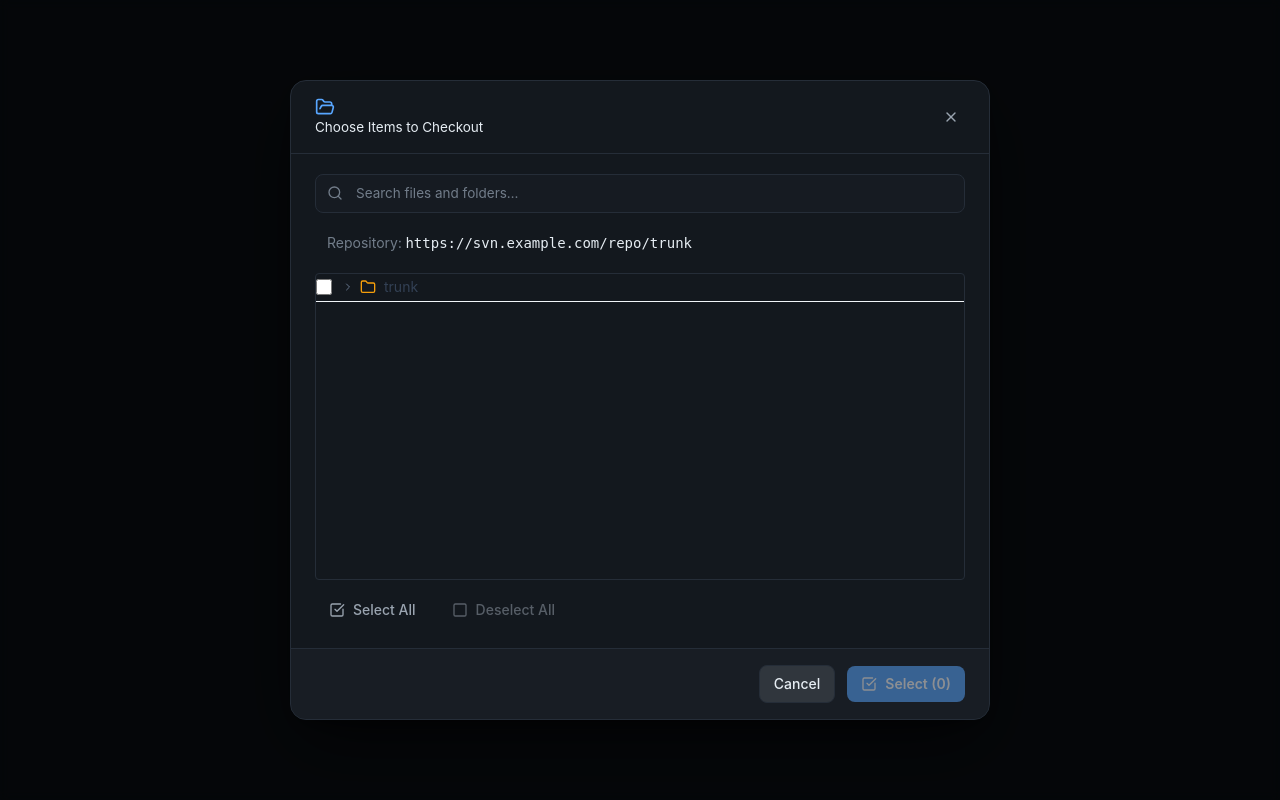
Test case: ChooseItemsDialog Integration › deselects all items
The width and height of the screenshot is (1280, 800).
Click the button "Select All".
click(372, 610)  # box x1=315 y1=592 x2=430 y2=628
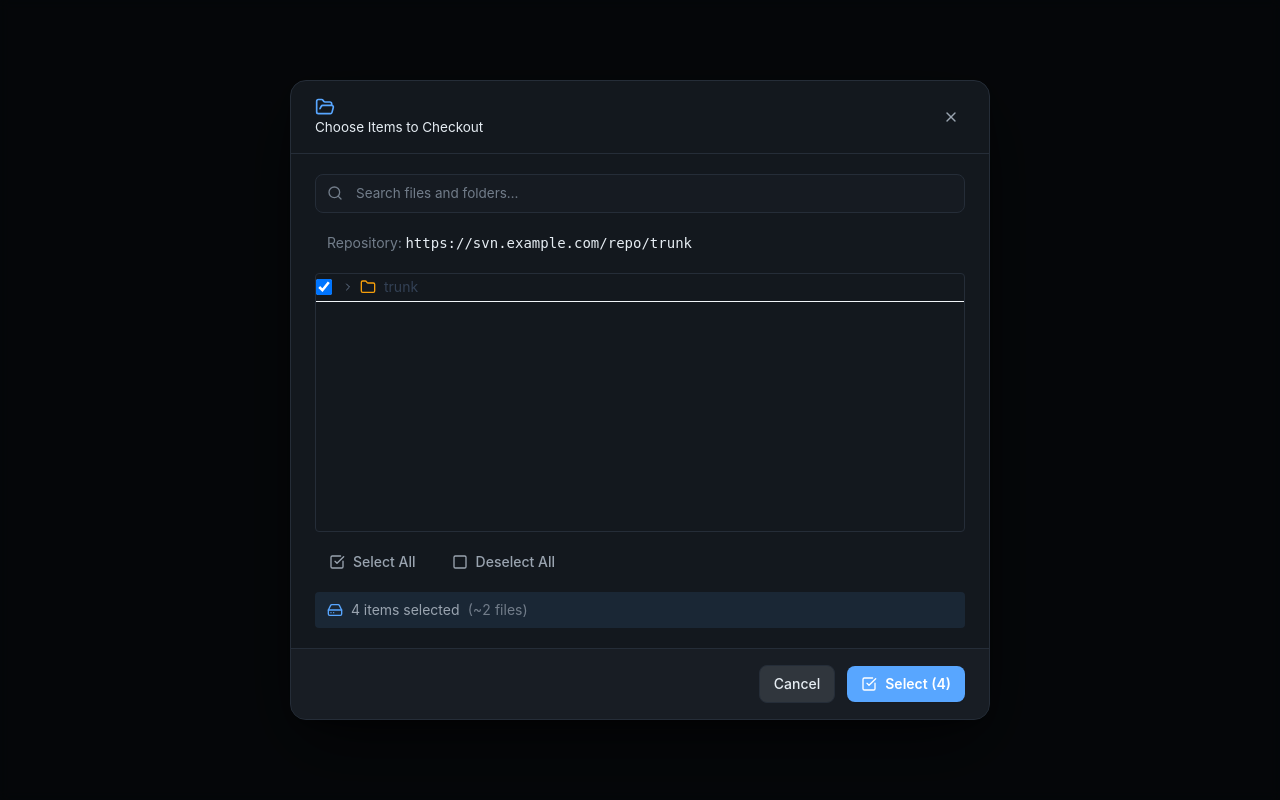
Expected: the text "4 items selected(~2 files)" is shown, x1=351 y1=600 x2=528 y2=620
Click the button "Deselect All".
click(503, 562)  # box x1=438 y1=544 x2=569 y2=580
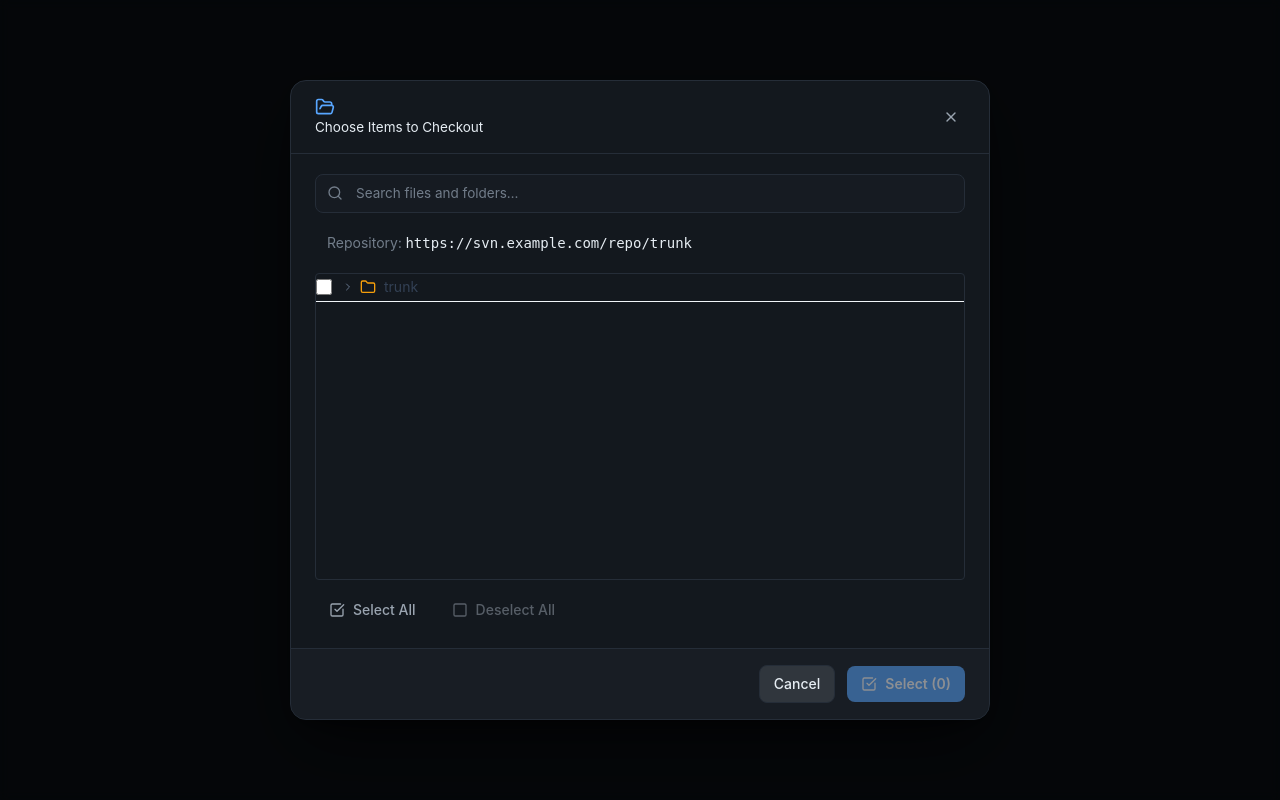
Expected: the text "items selected" is gone
